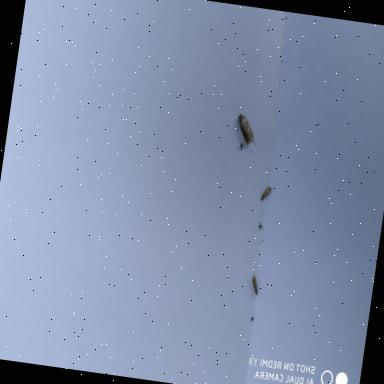pbw: (232, 108, 260, 150)
